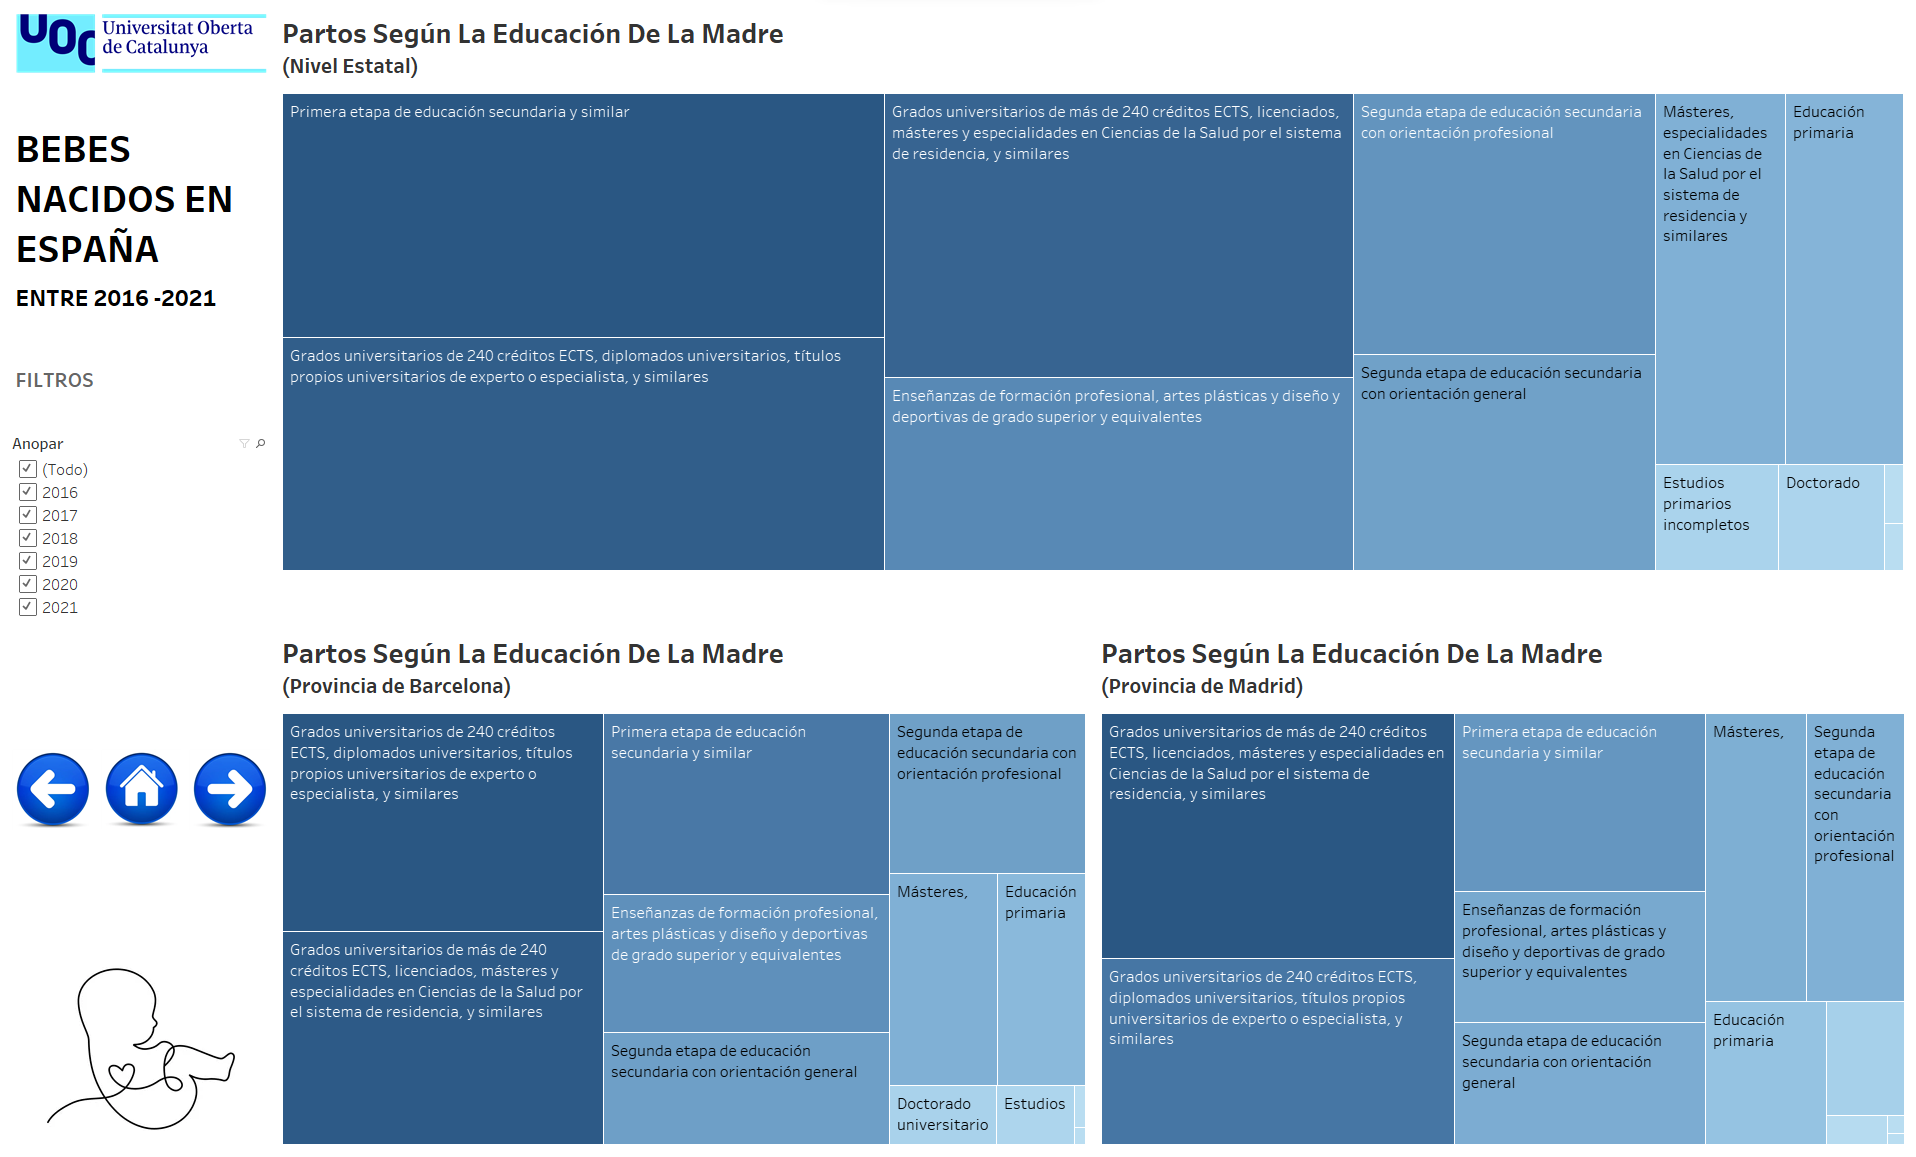

This screenshot's page, from the dashboard's own definition file:
{"tool":"tableau","page":{"name":"HOJA 3","canvas":[1000,1000],"units":"permille","ordinal":2},"visuals":[{"type":"image","param":"C:/Users/miguel.agua/Documents/Personal/Semestre3/Visualizacion/PRA2/Imagenes/uo","box":[5.2,8.2,148,95.7]},{"type":"worksheet","title":"Educación Global","mark":"Automatic","box":[153.2,8.2,841.6,491.7]},{"type":"text","box":[5.2,103.9,148,162.7]},{"type":"text","box":[5.2,266.6,148,42.2]},{"type":"blank","box":[5.2,308.8,148,45.3]},{"type":"text","box":[5.2,354.2,148,37.1]},{"type":"blank","box":[5.2,391.2,148,33]},{"type":"filter","title":"Educación Barcelona","param":"[federated.0aty76y0109al219r4ch6103iras].[none:ANOPAR:nk]","box":[5.2,424.2,148,242]},{"type":"blank","box":[153.2,500,841.6,40.3]},{"type":"worksheet","title":"Educación Barcelona","mark":"Automatic","box":[153.2,540.2,416,451.5]},{"type":"worksheet","title":"Educación Madrid","mark":"Automatic","box":[569.1,540.2,425.6,451.5]},{"type":"dashboard-object","box":[5.2,666.2,48.9,77.2]},{"type":"dashboard-object","box":[54.1,666.2,48.9,77.2]},{"type":"dashboard-object","box":[103,666.2,48.9,77.2]},{"type":"image","param":"C:/Users/miguel.agua/Documents/Personal/Semestre3/Visualizacion/PRA2/Imagenes/ww","box":[5.2,743.5,148,206]}]}

Visuals, with their boxes on the dashboard's canvas, which has no fixed pixel size, in thousandths of its width and height (x1, y1, x2, y2). These are canvas units, not pixel positions in the 1916x1157 screenshot, which may show the page scaled, cropped or inside an application window:
image: <bbox>5, 8, 153, 104</bbox>
"Educación Global" worksheet: <bbox>153, 8, 995, 500</bbox>
text: <bbox>5, 104, 153, 267</bbox>
text: <bbox>5, 267, 153, 309</bbox>
blank: <bbox>5, 309, 153, 354</bbox>
text: <bbox>5, 354, 153, 391</bbox>
blank: <bbox>5, 391, 153, 424</bbox>
"Educación Barcelona" filter: <bbox>5, 424, 153, 666</bbox>
blank: <bbox>153, 500, 995, 540</bbox>
"Educación Barcelona" worksheet: <bbox>153, 540, 569, 992</bbox>
"Educación Madrid" worksheet: <bbox>569, 540, 995, 992</bbox>
dashboard-object: <bbox>5, 666, 54, 743</bbox>
dashboard-object: <bbox>54, 666, 103, 743</bbox>
dashboard-object: <bbox>103, 666, 152, 743</bbox>
image: <bbox>5, 744, 153, 950</bbox>
